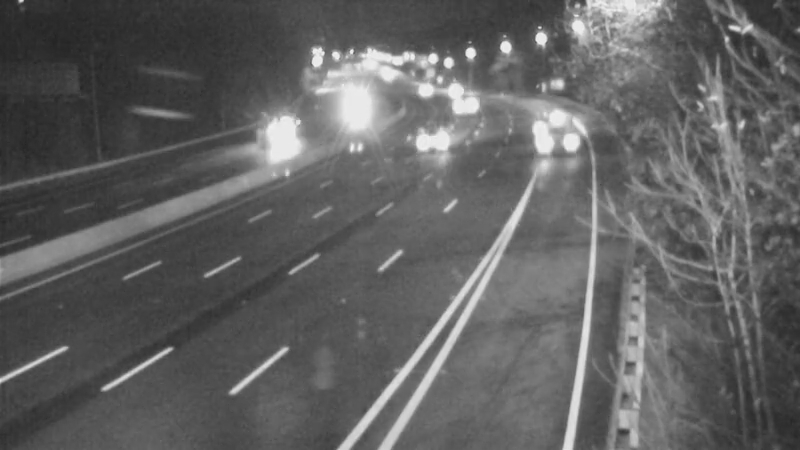vehicle: (430, 69, 480, 119), (398, 63, 448, 113), (437, 83, 487, 133), (532, 112, 582, 162), (401, 115, 451, 165), (257, 111, 307, 161), (328, 78, 378, 128)
